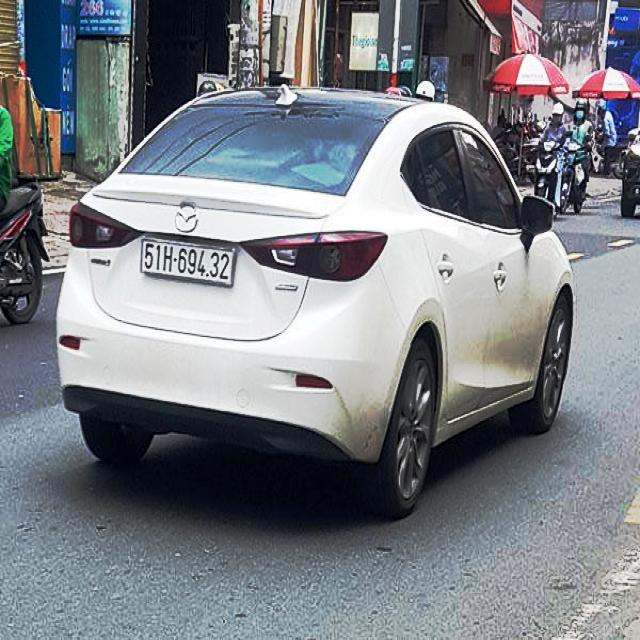license_plate: (141, 241, 236, 286)
